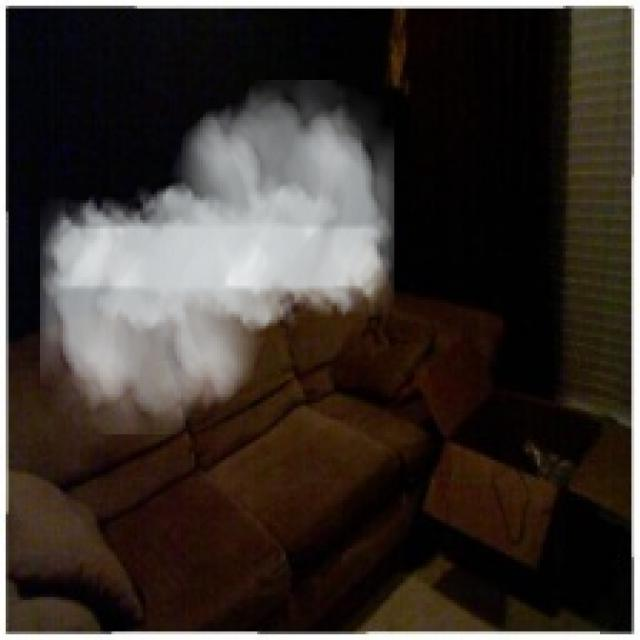smoke: (40, 80, 394, 434)
